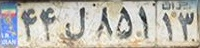character: (61, 4, 87, 43), (114, 5, 136, 43), (38, 6, 59, 44), (93, 4, 114, 42), (176, 11, 198, 44), (135, 5, 154, 43), (19, 7, 38, 44), (158, 10, 176, 45)
